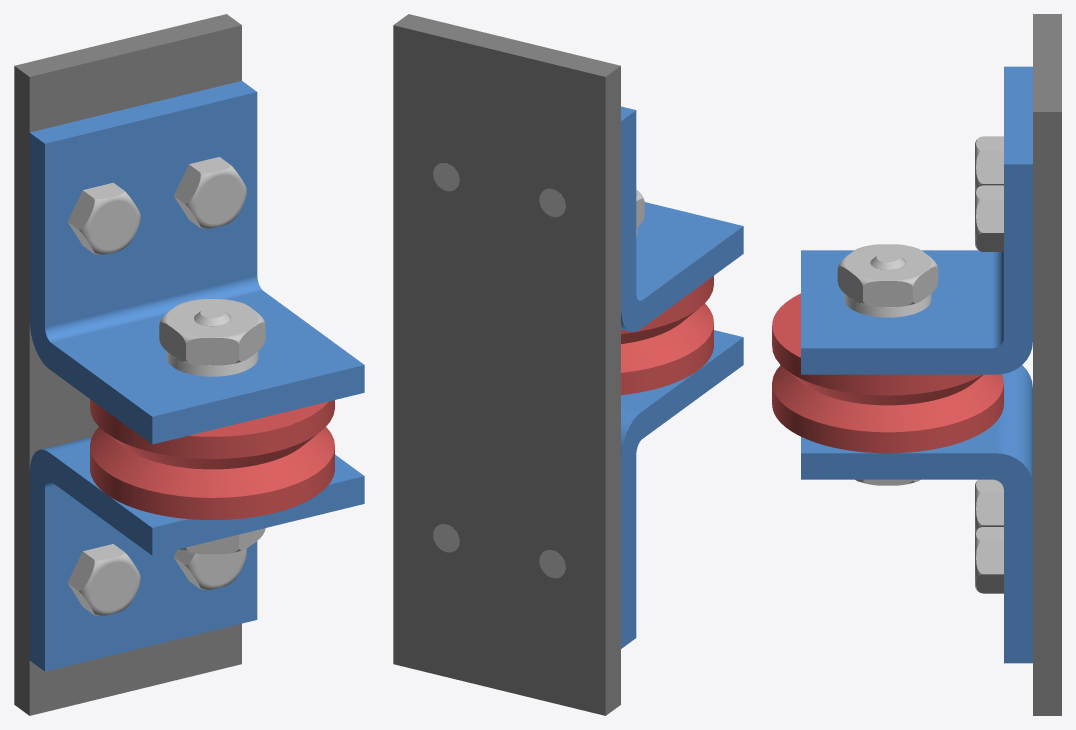
The model's file is Wheel Support Assembly Merged.fbx.
3 views of the same model, side by side, from view 1: azimuth 30°, elevation 25°; view 2: azimuth 150°, elevation 25°; view 3: azimuth 270°, elevation 25° (orthographic). The views are drawn at different scales.
Visible parts, largest first — view 1: Body2, Body1, Body3, Body4, Body8, Body10, Body9, Body12, Body11, Body5, Body7; view 2: Body1, Body2, Body3, Body4, Body10, Body11, Body9, Body12; view 3: Body2, Body1, Body4, Body3, Body8, Body11, Body12, Body10, Body9, Body7, Body5.
Boxes of the visible parts, bbox=[...] form: Body2: bbox=[29, 81, 364, 444]; Body1: bbox=[14, 14, 241, 715]; Body3: bbox=[29, 437, 364, 671]; Body4: bbox=[90, 399, 334, 519]; Body8: bbox=[159, 299, 265, 365]; Body10: bbox=[67, 182, 140, 254]; Body9: bbox=[67, 544, 140, 615]; Body12: bbox=[173, 157, 246, 228]; Body11: bbox=[173, 549, 246, 589]; Body5: bbox=[179, 307, 265, 554]; Body7: bbox=[166, 351, 258, 376]; Body1: bbox=[393, 14, 620, 715]; Body2: bbox=[621, 106, 743, 332]; Body3: bbox=[621, 330, 743, 648]; Body4: bbox=[621, 276, 713, 395]; Body10: bbox=[539, 188, 565, 217]; Body11: bbox=[433, 524, 459, 552]; Body9: bbox=[539, 550, 565, 578]; Body12: bbox=[433, 163, 459, 191]; Body2: bbox=[801, 66, 1032, 374]; Body1: bbox=[1033, 14, 1061, 715]; Body4: bbox=[772, 293, 1003, 453]; Body3: bbox=[801, 365, 1032, 663]; Body8: bbox=[837, 244, 938, 307]; Body11: bbox=[975, 527, 1003, 593]; Body12: bbox=[975, 185, 1003, 251]; Body10: bbox=[975, 136, 1003, 191]; Body9: bbox=[975, 479, 1003, 533]; Body7: bbox=[844, 294, 931, 317]; Body5: bbox=[855, 252, 920, 485].
Size of the model in its own units: 40 by 115 by 50.
